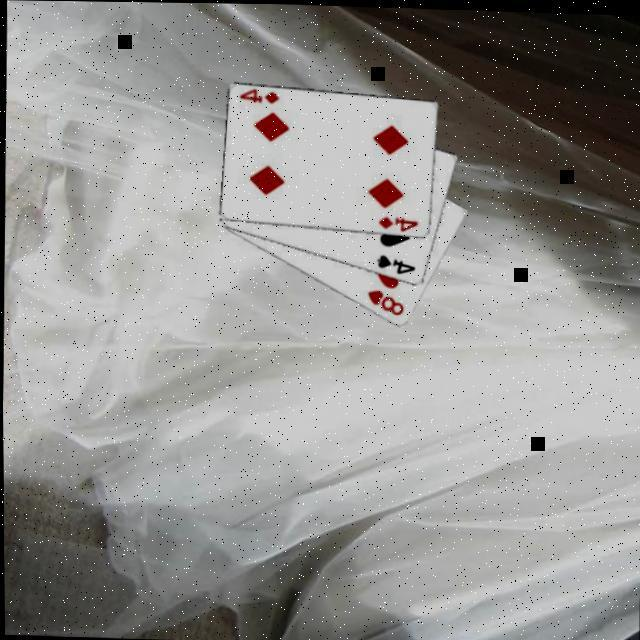4D: (376, 214, 422, 236), (237, 88, 283, 108)
4S: (374, 252, 418, 279)
8H: (364, 287, 407, 319)
